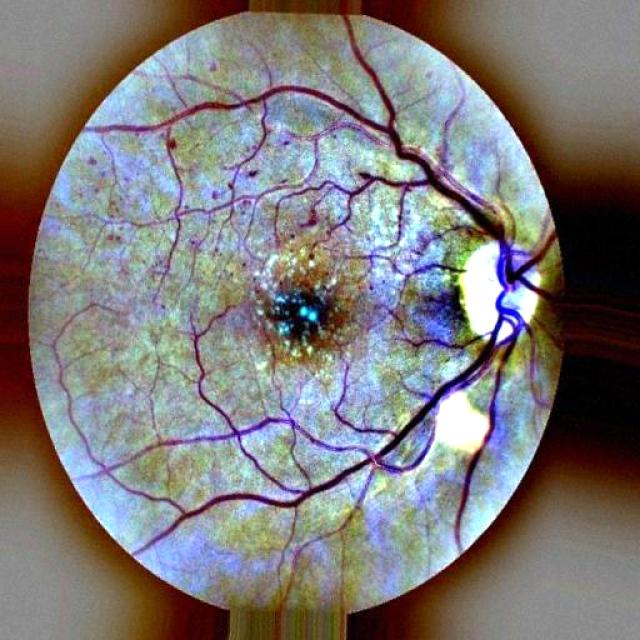Macula: (265, 289, 328, 344)
Nerves: (291, 219, 554, 546), (252, 15, 512, 220), (405, 261, 469, 278)
Optic Disk: (459, 240, 540, 342)
